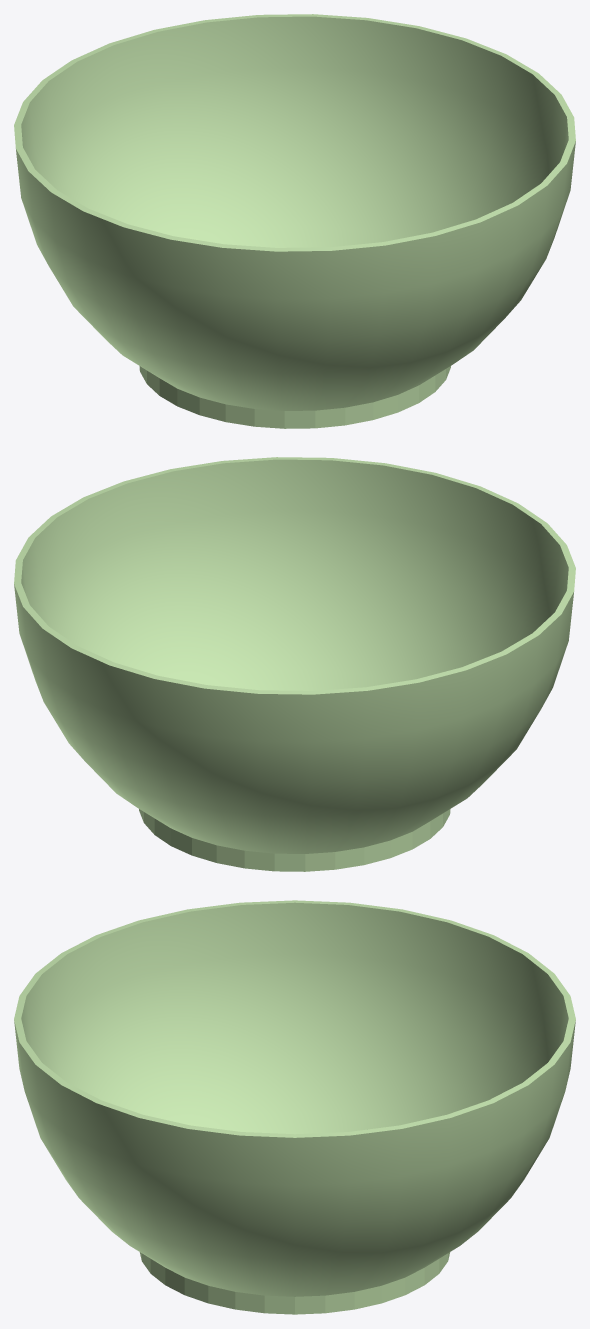
Rendered from dawan.fbx.
3 views of the same model, one above another, from view 1: azimuth 30°, elevation 25°; view 2: azimuth 150°, elevation 25°; view 3: azimuth 270°, elevation 25° (orthographic).
Visible parts, largest first — view 1: 大碗; view 2: 大碗; view 3: 大碗.
Boxes of the visible parts, x1,y1,x2,y2 form: 大碗: (14, 14, 575, 428); 大碗: (14, 457, 575, 871); 大碗: (14, 900, 575, 1314).
Size of the model in its own units: 3.37 by 1.52 by 3.37.
